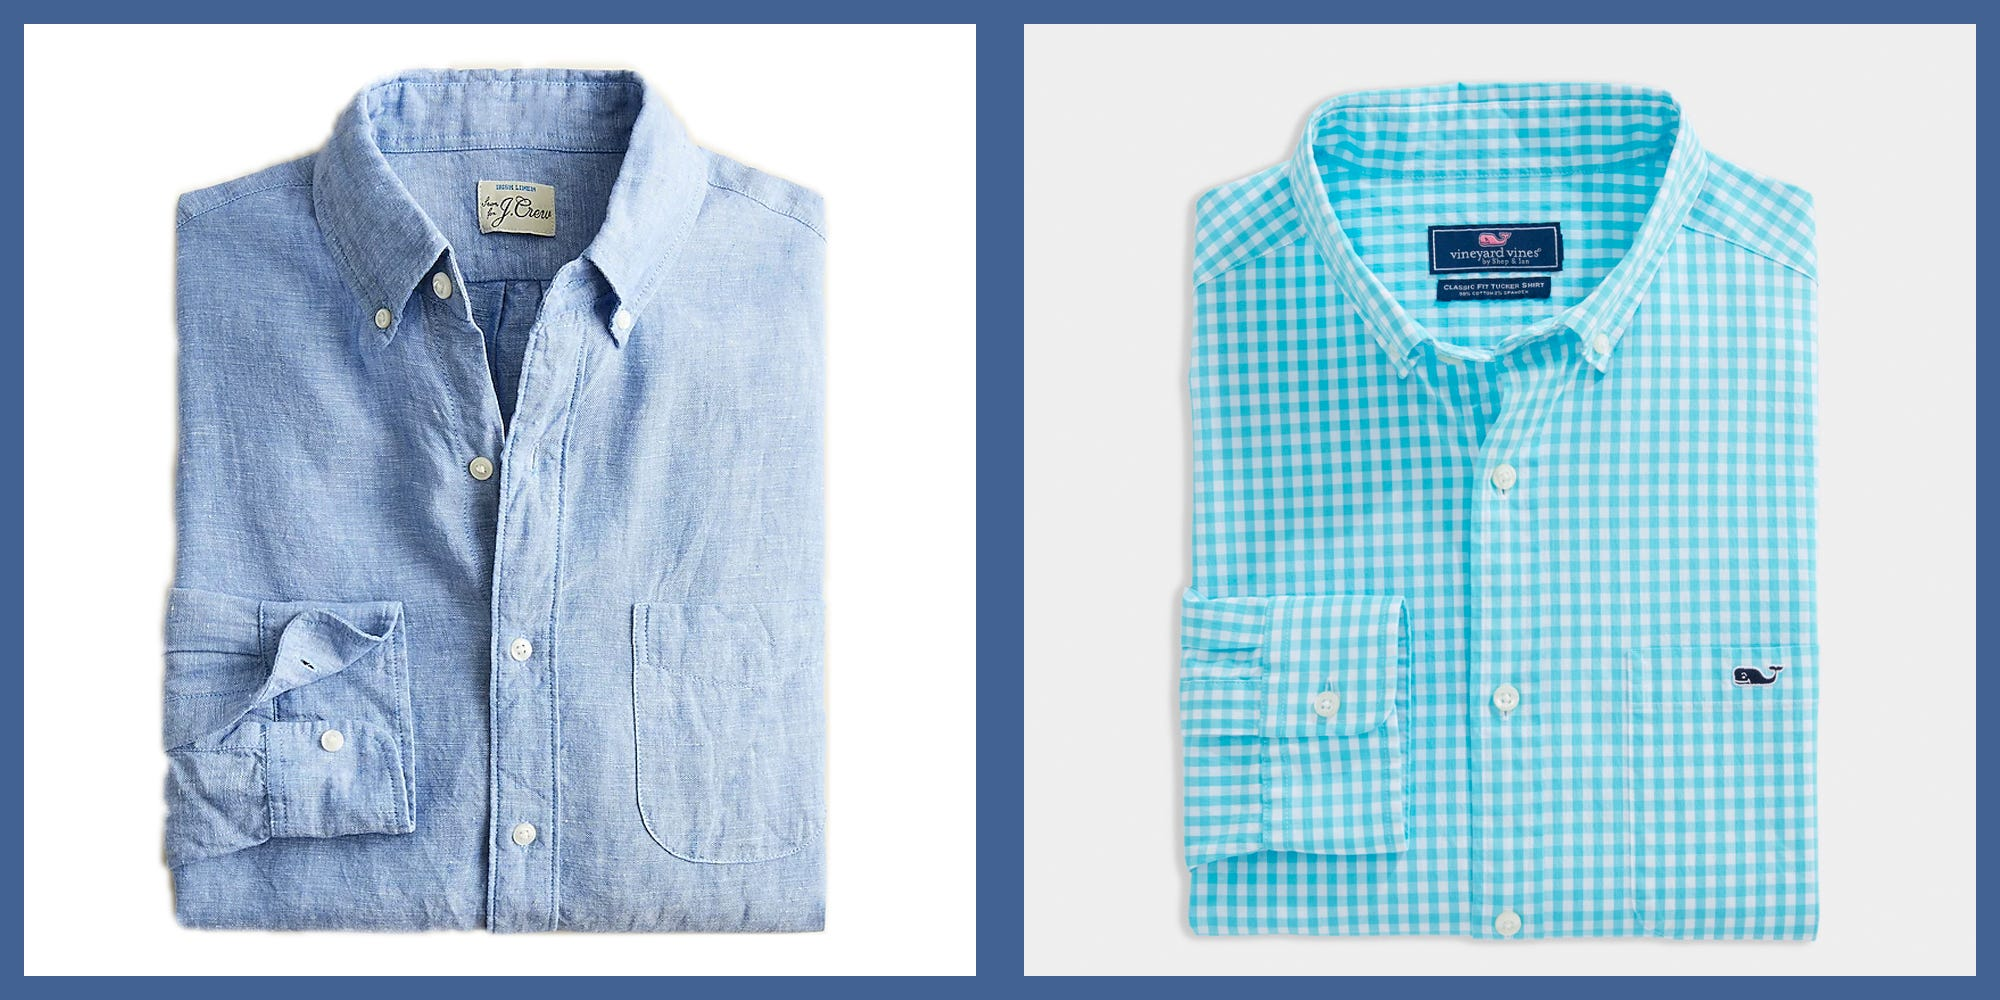long-sleeved official shirt: (156, 71, 828, 932), (1187, 92, 1819, 930)
